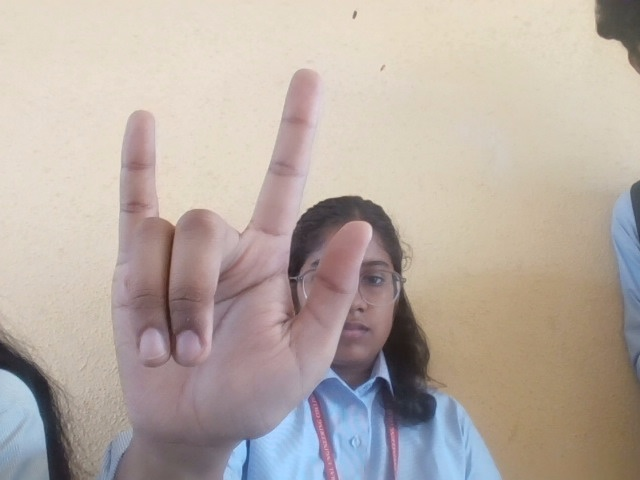I Love You: (104, 64, 374, 447)
